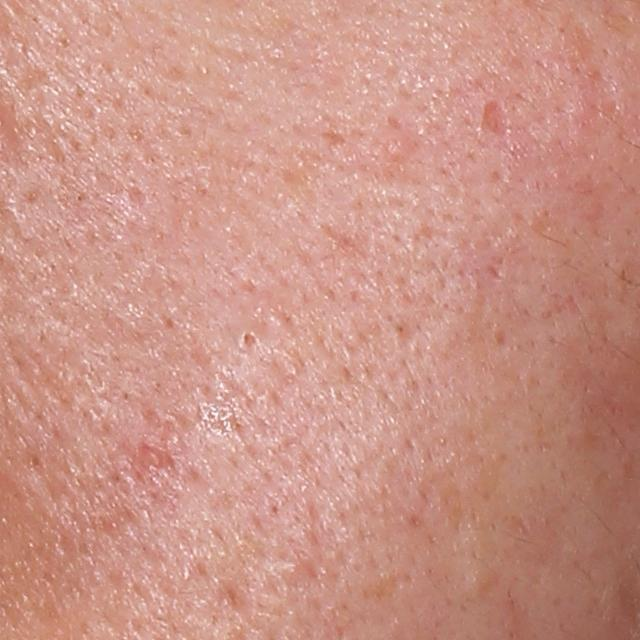atrophic_scar: (478, 97, 510, 143)
comedo: (461, 563, 496, 596), (238, 328, 258, 352)
